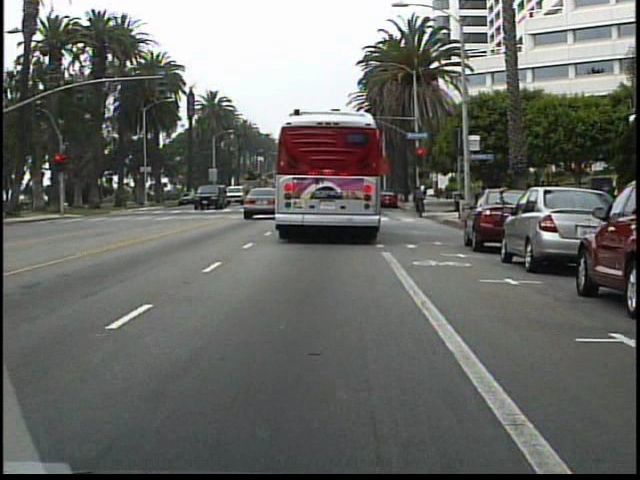person: (409, 181, 429, 216)
